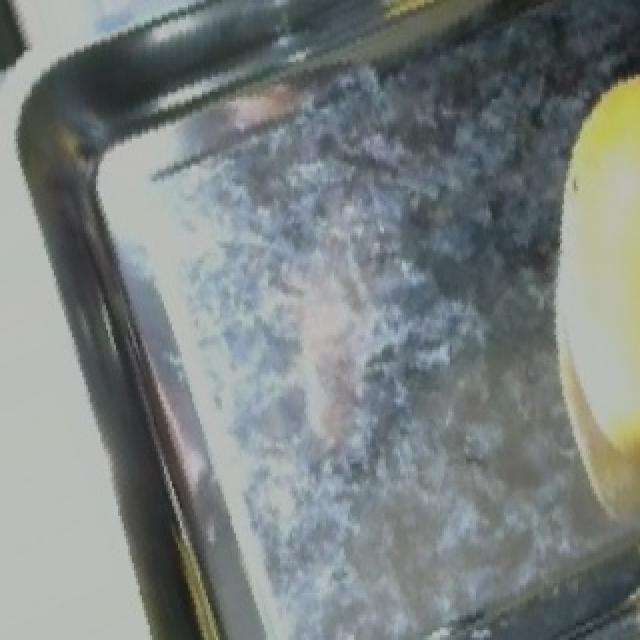fruit: (508, 42, 640, 377)
